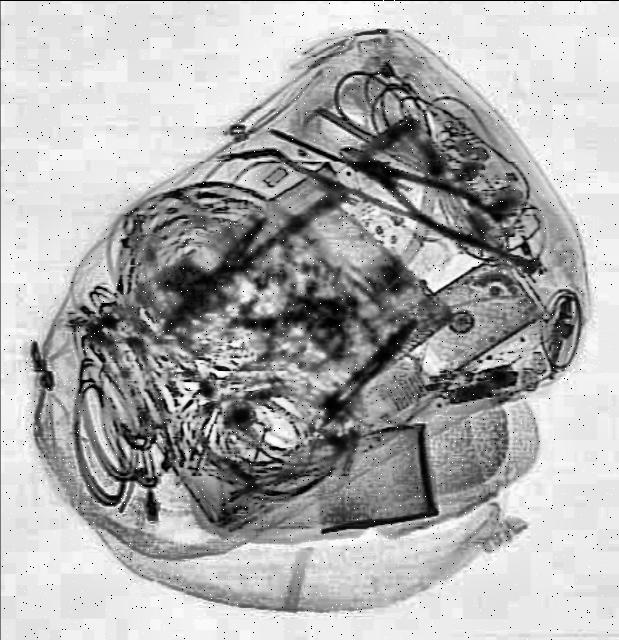Pliers: (330, 130, 506, 256)
